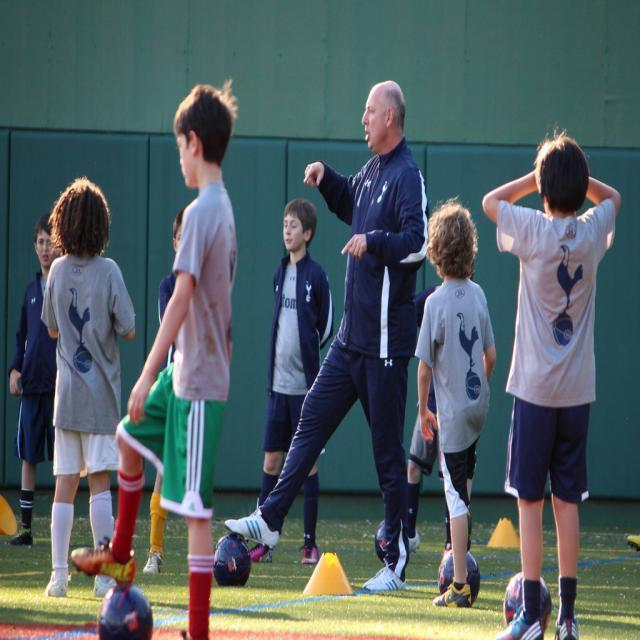football: (63, 571, 159, 640), (209, 531, 278, 595)
